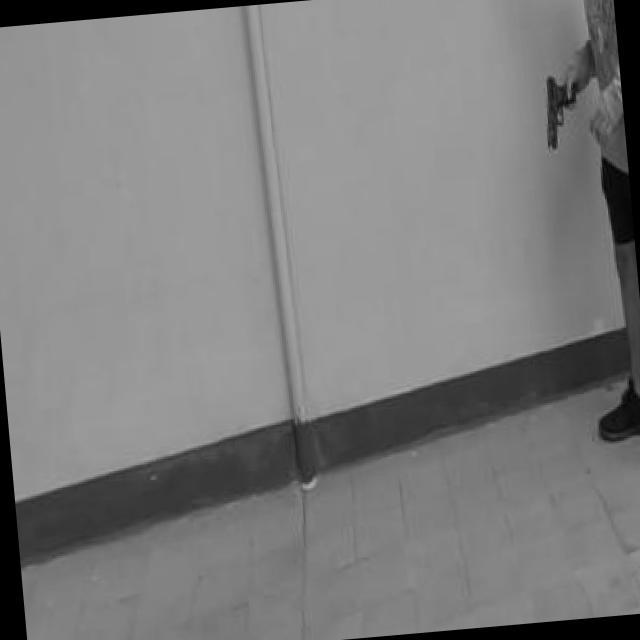Guns: (524, 60, 586, 162)
